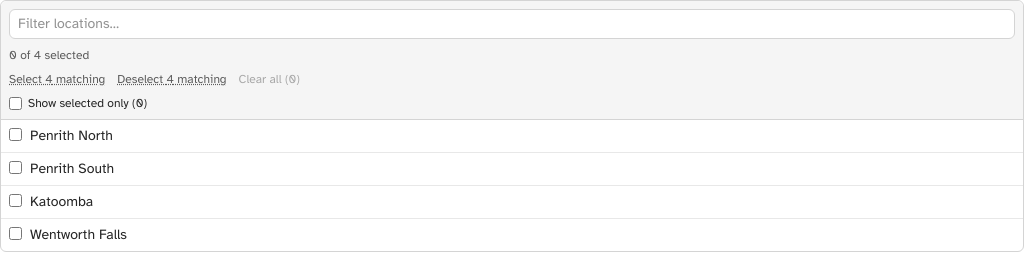
Test: MultiSelectList › narrows visible rows by token match
The width and height of the screenshot is (1024, 269).
Type "pen nor" into the field labelled "Filter locations".
click(512, 24); type("pen nor")  # box [9,9,1015,39]
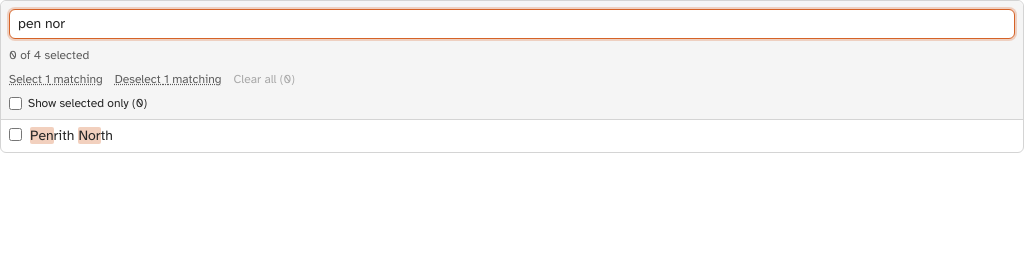
Check: the checkbox labelled "Penrith North" is shown, box [9,128,22,141]
Check: the text "Penrith South" is gone
Check: the text "Katoomba" is gone
